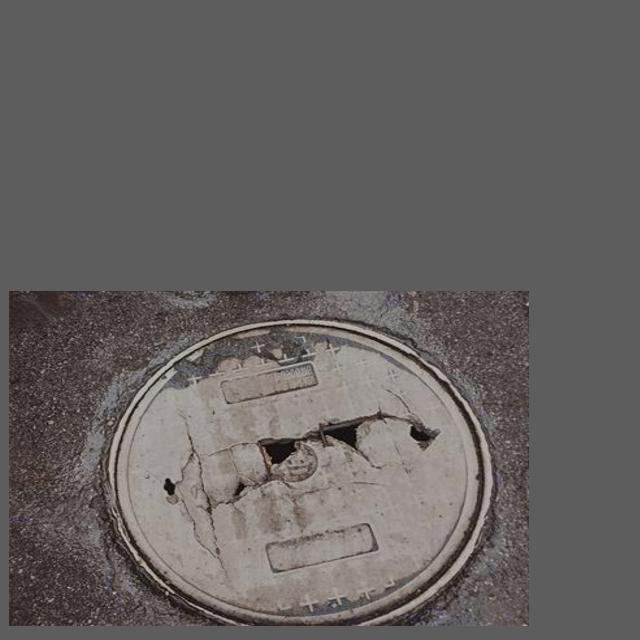broke: (76, 313, 515, 624)
